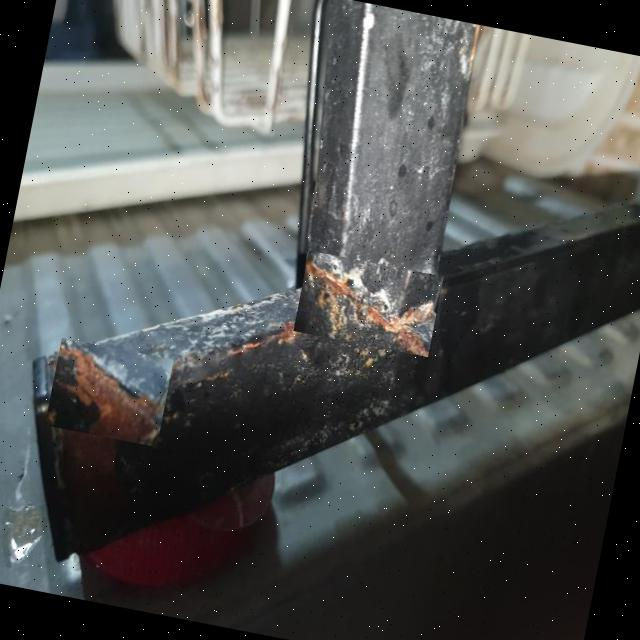Corrosion: (0, 0, 497, 622), (291, 258, 443, 360), (40, 338, 172, 448)
